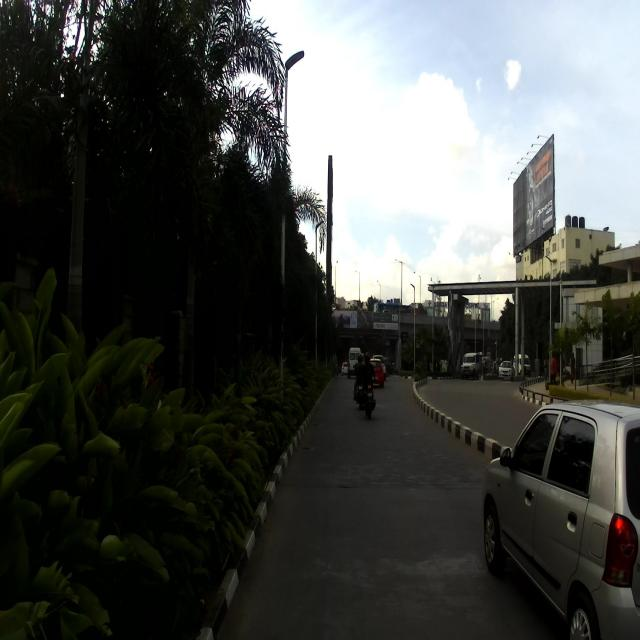Car_Maruti-Suzuki: (480, 398, 639, 637)
